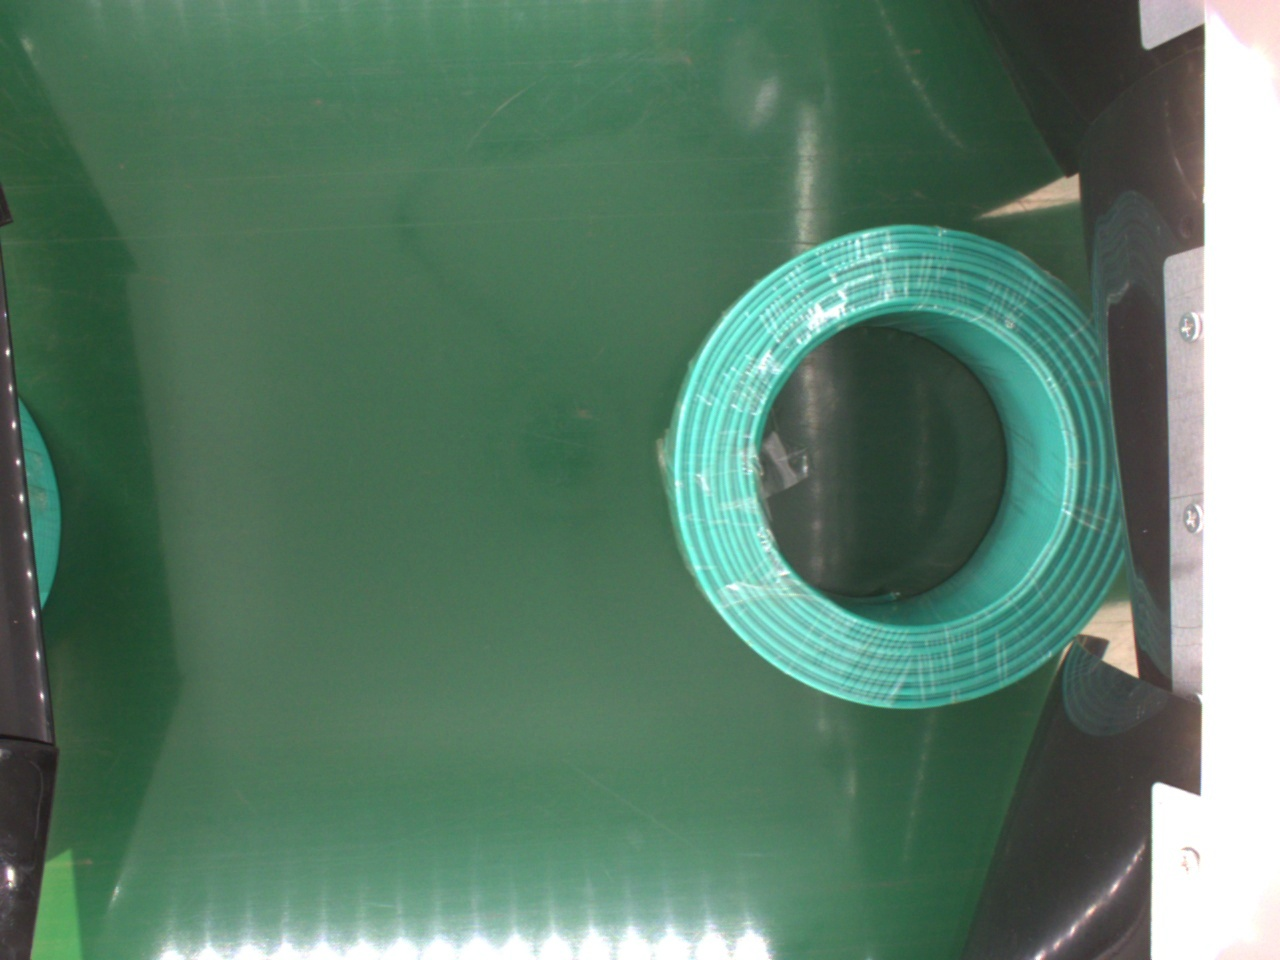green: (669, 228, 1127, 713)
